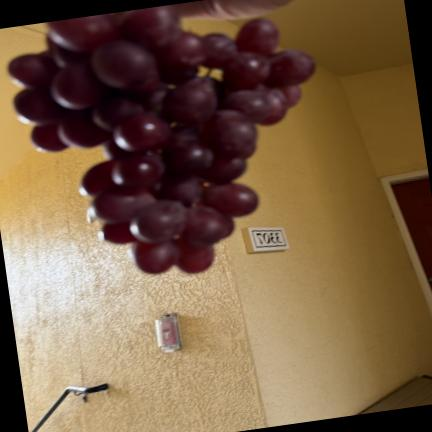grape_cluster: (8, 4, 314, 273)
